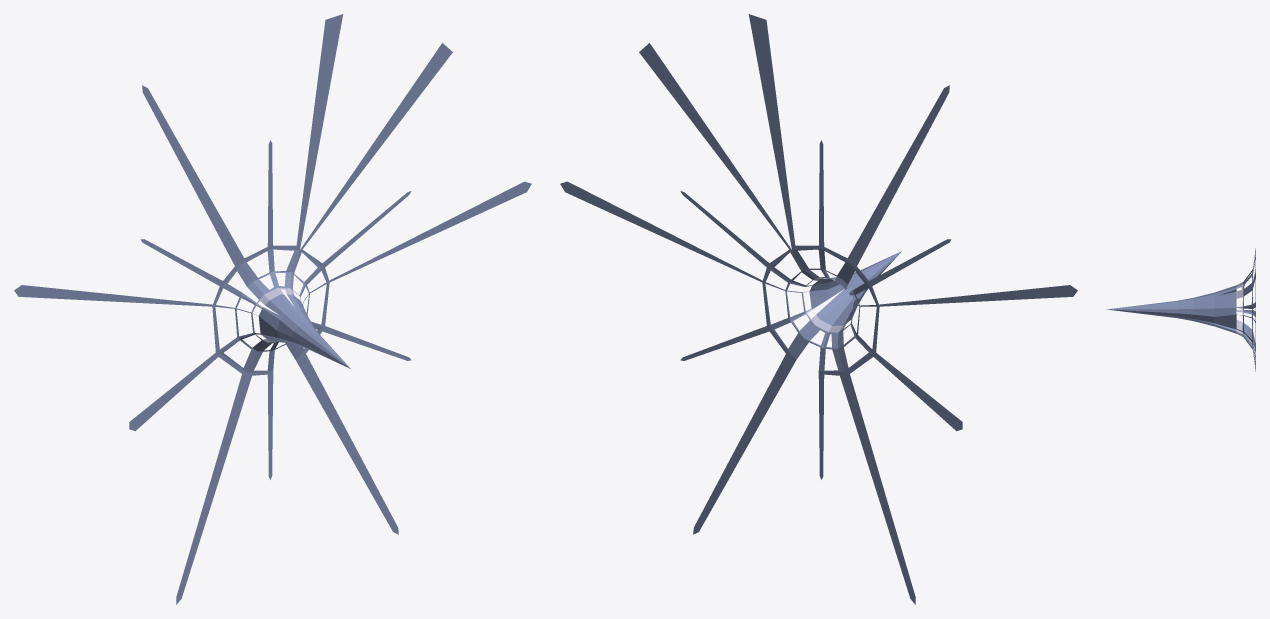
File: Prop_Spiderweb_07.fbx
3 renders of one model, left to right at view 1: azimuth 30°, elevation 25°; view 2: azimuth 150°, elevation 25°; view 3: azimuth 270°, elevation 25°, orthographic. The views are drawn at different scales.
Visible parts, largest first — view 1: spiderweb07; view 2: spiderweb07; view 3: spiderweb07.
Part boxes in pixels (bbox=[...]): spiderweb07: bbox=[14, 14, 531, 604]; spiderweb07: bbox=[560, 14, 1077, 604]; spiderweb07: bbox=[1106, 248, 1255, 371].
Size of the model in its own units: 1956 by 1986 by 529.
